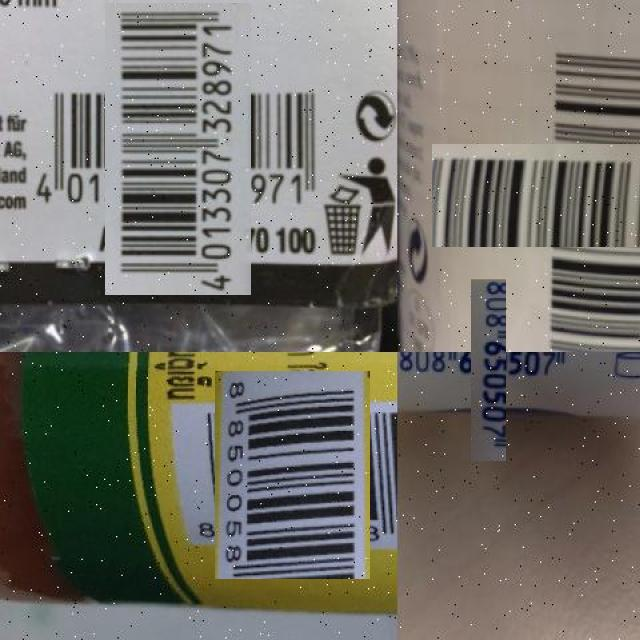Barcode: (68, 40, 288, 259), (201, 384, 384, 565), (484, 91, 640, 299), (434, 315, 543, 424)
